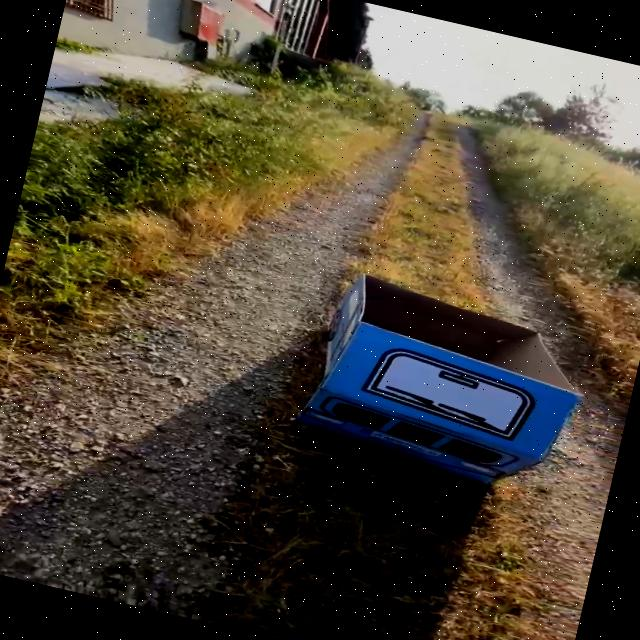blue_car: (211, 227, 640, 541)
